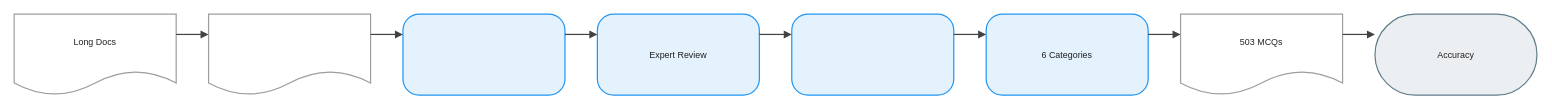
This 1552x110 diagram has some shape labels left out. Each missing label, with the box of its shape:
3 LLM Vet: (402, 13, 565, 95)
MCQ Draft: (208, 13, 371, 95)
Revise Loop: (791, 13, 954, 95)
